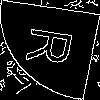R: (25, 25, 84, 69)
